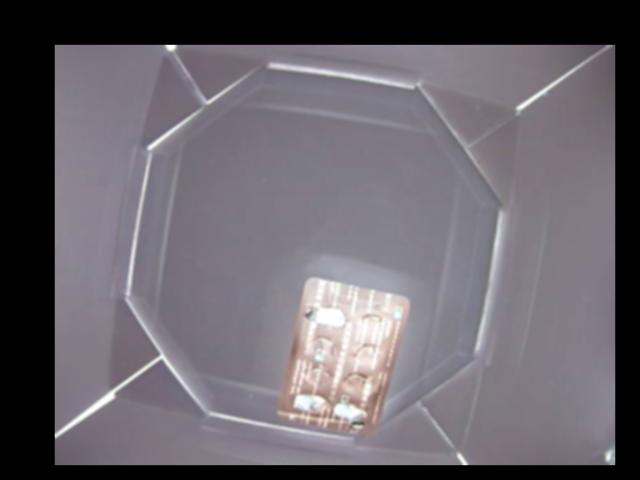Medicine: (277, 276, 412, 437)
